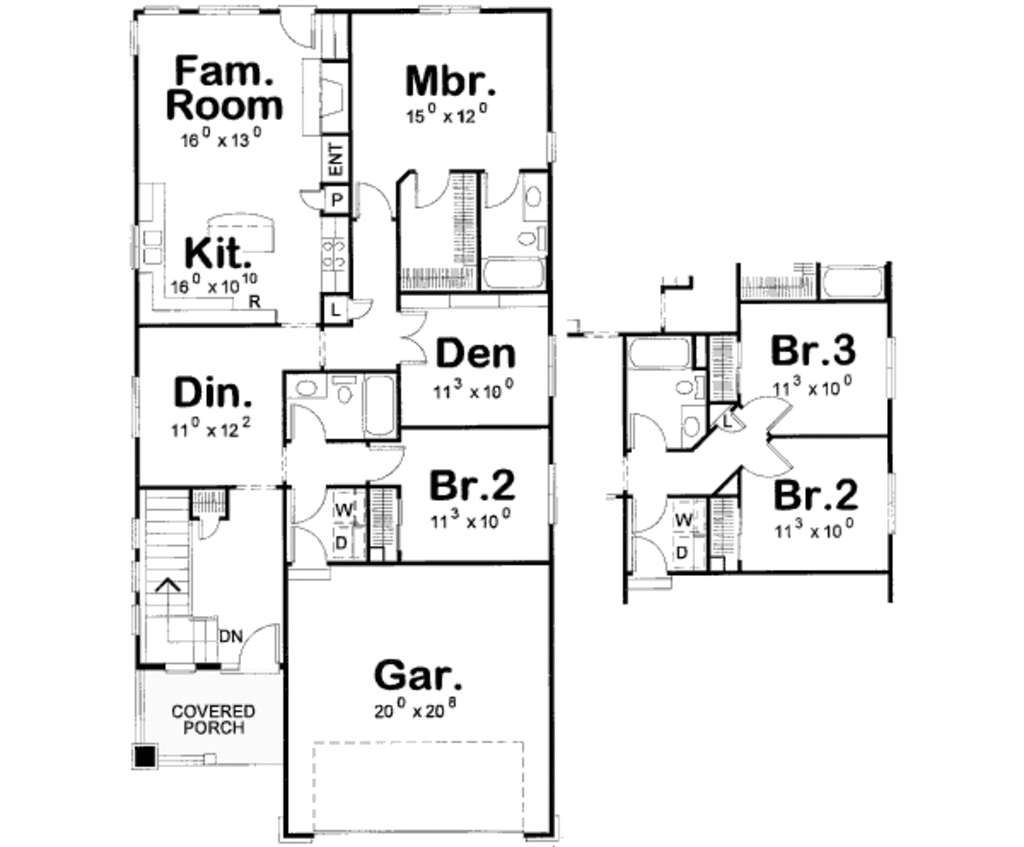door: (282, 523, 331, 583), (271, 1, 324, 56), (227, 621, 281, 674), (392, 305, 438, 364), (626, 535, 671, 593), (402, 167, 457, 213), (743, 389, 795, 435), (738, 445, 788, 488), (631, 411, 676, 456), (349, 178, 396, 220), (473, 169, 521, 210), (286, 401, 331, 444), (364, 442, 406, 488), (280, 485, 327, 521), (191, 514, 223, 545), (294, 185, 321, 217), (346, 296, 375, 323)
large_sink: (665, 370, 707, 410), (324, 370, 355, 407), (515, 220, 546, 255)
small_sink: (517, 166, 547, 225), (280, 375, 323, 402)
stairs: (135, 488, 232, 669)
tub: (824, 260, 899, 305), (358, 371, 404, 441), (619, 335, 695, 369), (480, 256, 552, 291)
twin_sink: (130, 227, 169, 270)
window: (875, 330, 899, 400), (883, 469, 901, 533), (195, 1, 261, 18), (541, 127, 568, 166), (416, 1, 481, 17), (127, 13, 140, 60)
